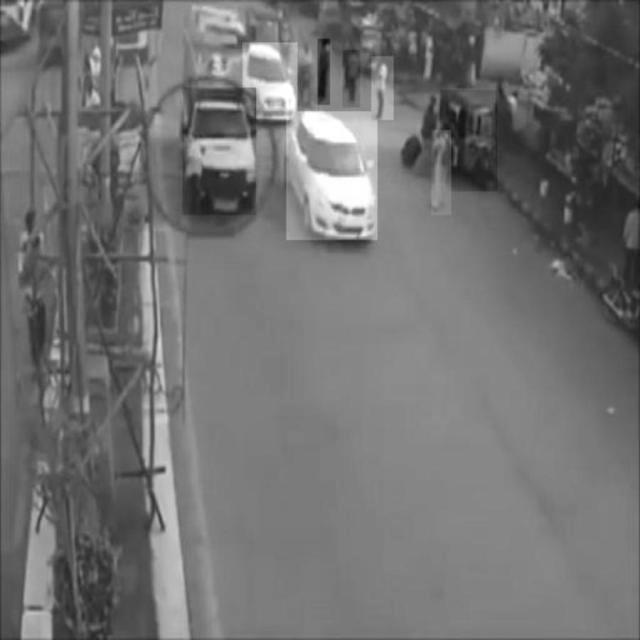accident: (183, 88, 256, 216)
person: (432, 131, 452, 215), (372, 56, 394, 120), (344, 51, 361, 108), (318, 39, 330, 105)
vehicle: (287, 111, 378, 239), (440, 91, 497, 192), (243, 43, 298, 119)
